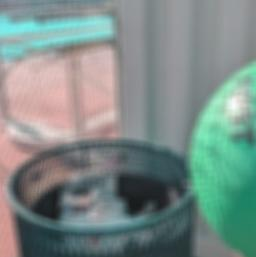algae: (197, 50, 256, 257)
